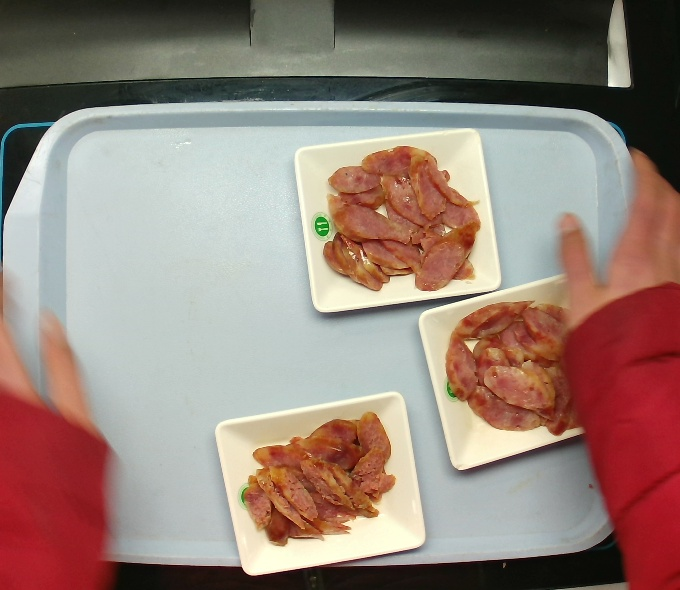wcq-QiePianXiangChang: (225, 396, 415, 550), (428, 289, 618, 443), (306, 141, 496, 295)
